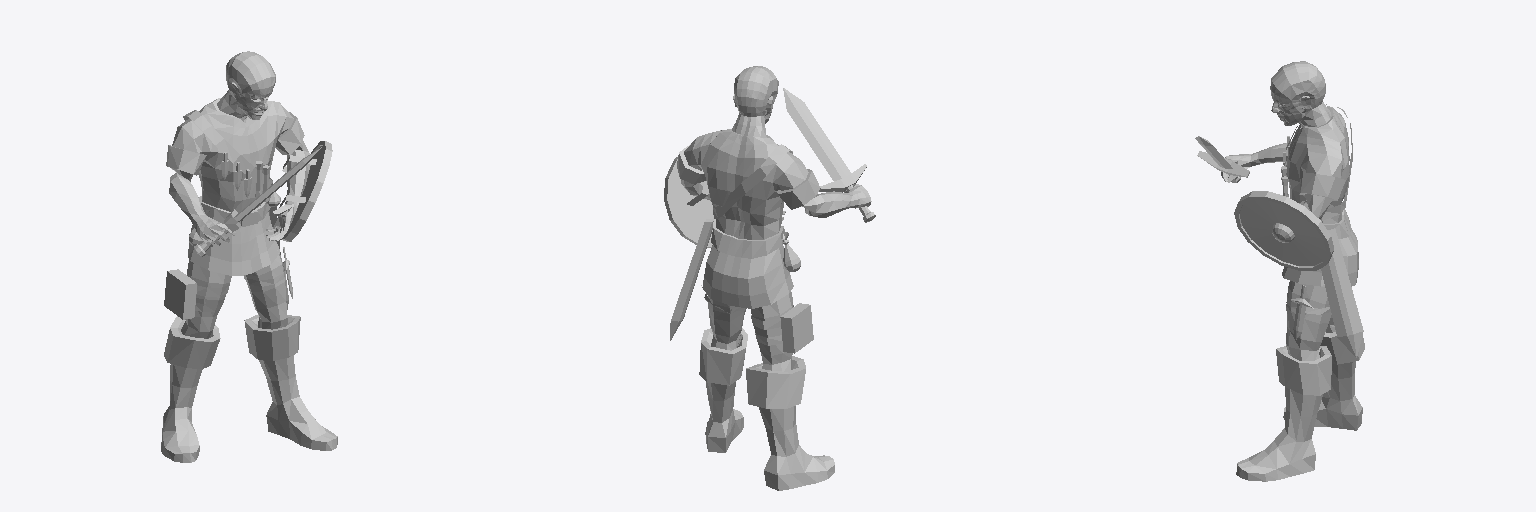
File: char_anim_000161.obj
The picture shows the model from 3 angles: view 1: azimuth 30°, elevation 25°; view 2: azimuth 150°, elevation 25°; view 3: azimuth 270°, elevation 25°; orthographic projection.
Parts seen in each view (by area): view 1: Body.001, Shield, Funda.001_LegBag, Sword, Bandolera; view 2: Body.001, Sword, Shield, Funda.001_LegBag, Sheat, Bandolera; view 3: Body.001, Shield, Sheat, Sword, LegKnife.
Part boxes in pixels (left/top/right/bottom): Body.001: left=161, top=51, right=337, bottom=462; Shield: left=279, top=141, right=332, bottom=241; Funda.001_LegBag: left=164, top=269, right=229, bottom=319; Sword: left=194, top=147, right=321, bottom=256; Bandolera: left=183, top=110, right=272, bottom=187; Body.001: left=677, top=66, right=871, bottom=490; Sword: left=783, top=88, right=875, bottom=222; Shield: left=664, top=157, right=713, bottom=247; Funda.001_LegBag: left=751, top=303, right=813, bottom=353; Sheat: left=670, top=219, right=713, bottom=340; Bandolera: left=713, top=144, right=792, bottom=218; Body.001: left=1221, top=61, right=1364, bottom=481; Shield: left=1234, top=191, right=1333, bottom=270; Sheat: left=1321, top=228, right=1363, bottom=357; Sword: left=1195, top=136, right=1249, bottom=182; LegKnife: left=1286, top=285, right=1330, bottom=339.
Size of the model in its own units: 1.02 by 2.25 by 0.9009.